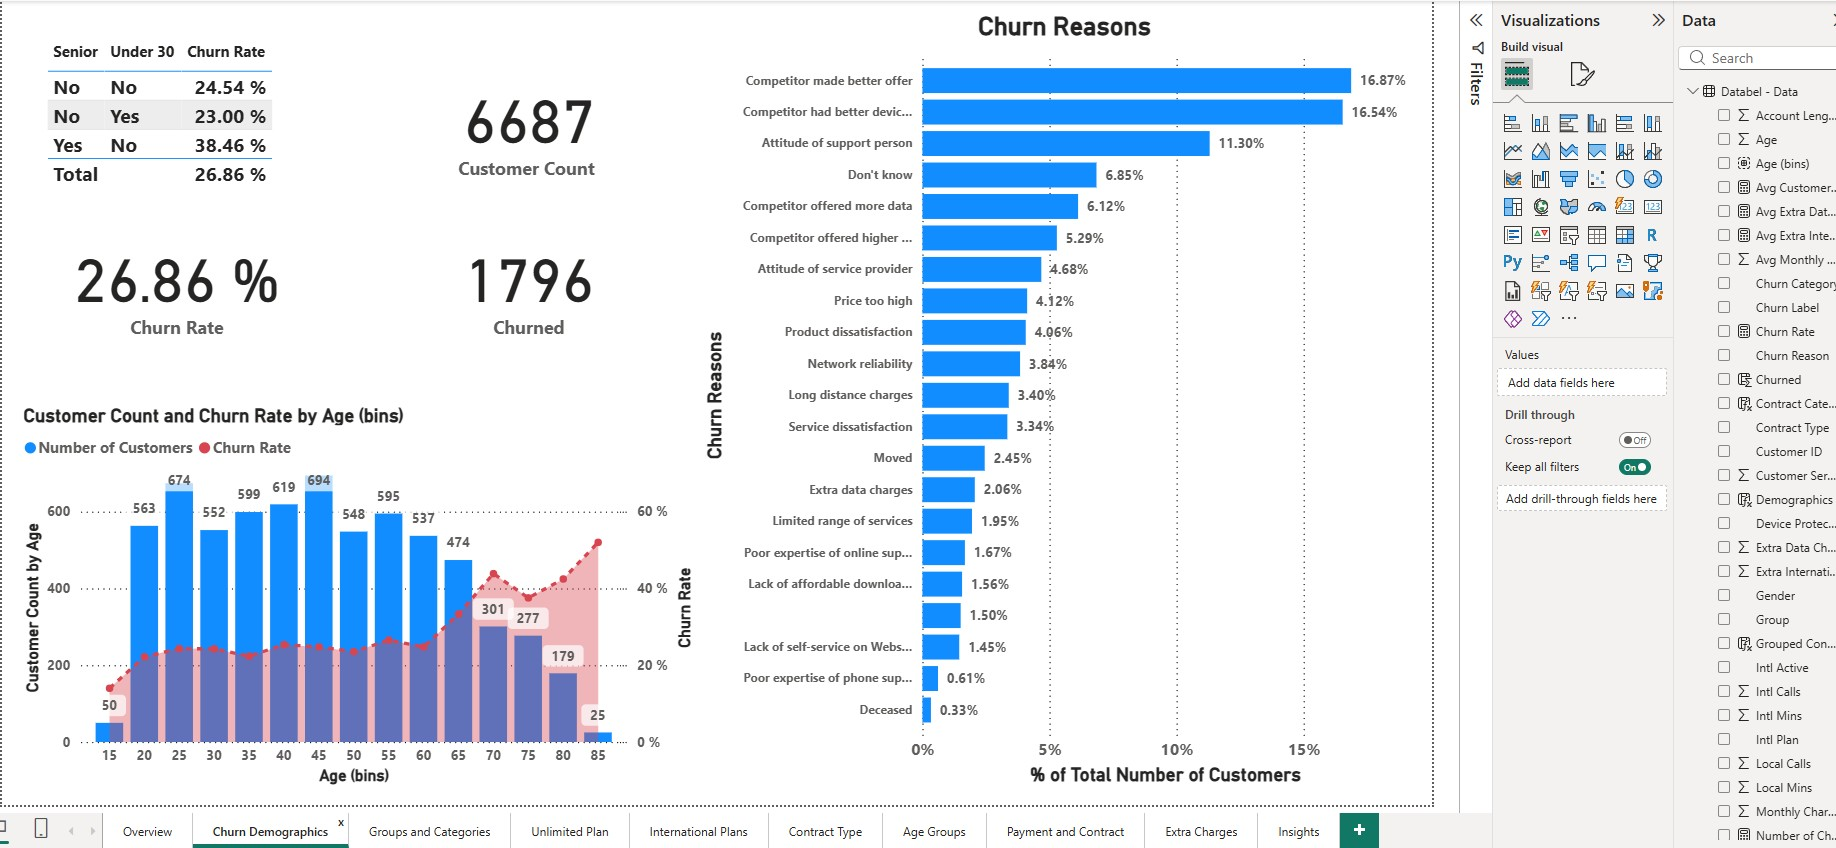

What the dashboard file says about the page in this screenshot:
{"tool":"powerbi","page":{"name":"Churn Demographics","canvas":[1280,720],"ordinal":1},"visuals":[{"type":"tableEx","fields":{"Values":["Databel - Data.Senior","Databel - Data.Under 30","Databel - Data.Churn Rate"]},"box":[35.2,30.8,280.1,161.3],"z":0},{"type":"clusteredBarChart","title":"Churn Reasons","fields":{"Category":["Databel - Data.Churn Reason"],"Y":["CountNonNull(Databel - Data.Number of Customers in Group)"]},"box":[623.3,9.9,656.4,696.7],"z":1000},{"type":"card","fields":{"Values":["Databel - Data.Churn Rate"]},"box":[51.3,192.1,211.2,123.2],"z":2000},{"type":"lineStackedColumnComboChart","title":"Customer Count and Churn Rate by Age (bins)","fields":{"Category":["Databel - Data.Age (bins)"],"Y":["Databel - Data.Number of costumers"],"Y2":["Databel - Data.Churn Rate"]},"box":[14.7,360.7,608.6,346.1],"z":3000},{"type":"card","fields":{"Values":["Count(Databel - Data.Customer ID)"]},"box":[366.6,49.9,211.2,123.2],"z":4000},{"type":"card","fields":{"Values":["Sum(Databel - Data.Churned)"]},"box":[366.6,192.1,211.2,123.2],"z":5000}]}

Visuals, with their boxes on the page's 1280x720 design canvas (x1, y1, x2, y2). These are canvas units, not pixel positions in the 1836x848 screenshot, which may show the page scaled, cropped or inside an application window:
tableEx - Databel - Data.Senior x Databel - Data.Under 30: left=35, top=31, right=315, bottom=192
"Churn Reasons" clusteredBarChart: left=623, top=10, right=1280, bottom=707
card - Databel - Data.Churn Rate: left=51, top=192, right=262, bottom=315
"Customer Count and Churn Rate by Age (bins)" lineStackedColumnComboChart: left=15, top=361, right=623, bottom=707
card - Count(Databel - Data.Customer ID): left=367, top=50, right=578, bottom=173
card - Sum(Databel - Data.Churned): left=367, top=192, right=578, bottom=315
